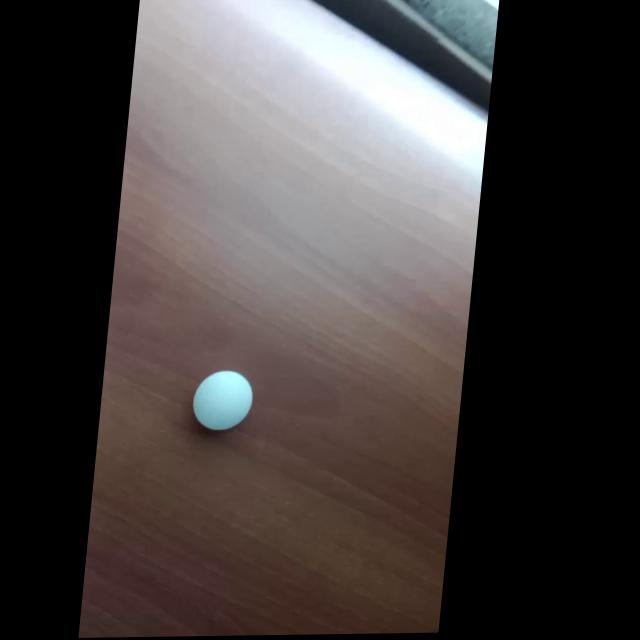white ball: (189, 369, 255, 431)
